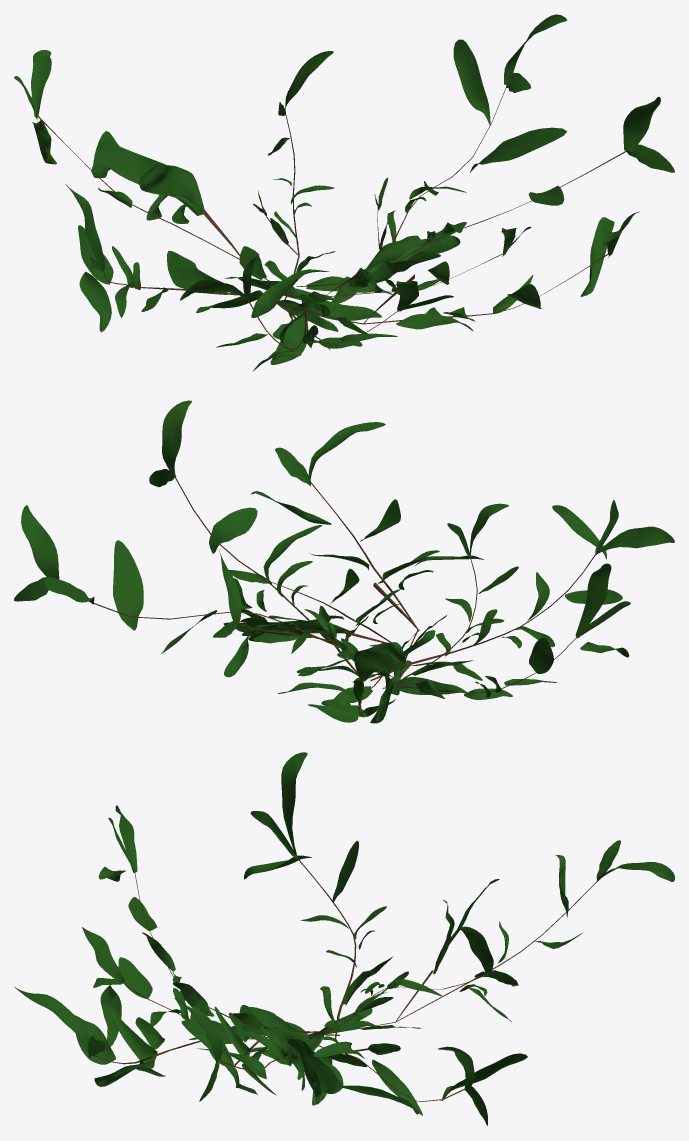
The model's file is golondrina.glb.
3 views of the same model, one above another, from view 1: azimuth 30°, elevation 25°; view 2: azimuth 150°, elevation 25°; view 3: azimuth 270°, elevation 25° (orthographic). The views are drawn at different scales.
Visible parts, largest first — view 1: GS Rockplain creeper 01; view 2: GS Rockplain creeper 01; view 3: GS Rockplain creeper 01.
Boxes of the visible parts, x1,y1,x2,y2 form: GS Rockplain creeper 01: (14, 14, 674, 371); GS Rockplain creeper 01: (14, 400, 674, 723); GS Rockplain creeper 01: (14, 752, 674, 1125).
Size of the model in its own units: 17.7 by 5.97 by 18.05.
